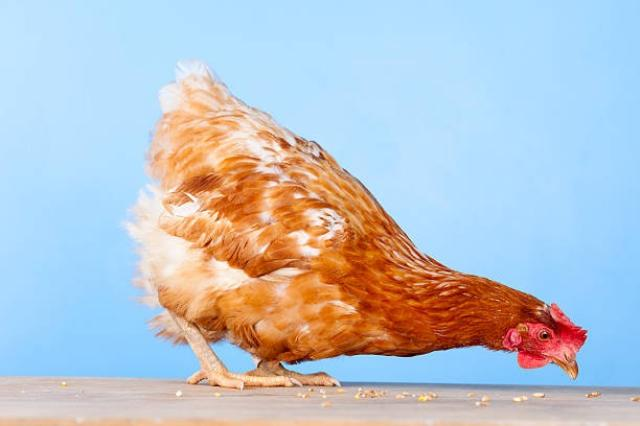Chicken: (125, 57, 589, 392)
